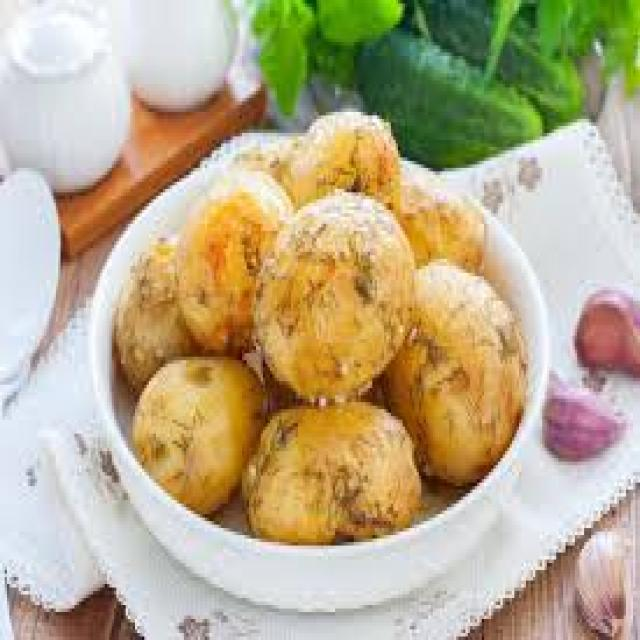Garlic: (545, 367, 631, 471), (572, 517, 640, 640), (564, 281, 640, 383)
Potato: (388, 252, 533, 496), (249, 193, 411, 405), (240, 382, 423, 560), (121, 334, 266, 535), (175, 156, 302, 353), (112, 210, 228, 388), (280, 96, 409, 226), (375, 175, 502, 292)
cucumber: (339, 0, 561, 186), (423, 0, 606, 122)
